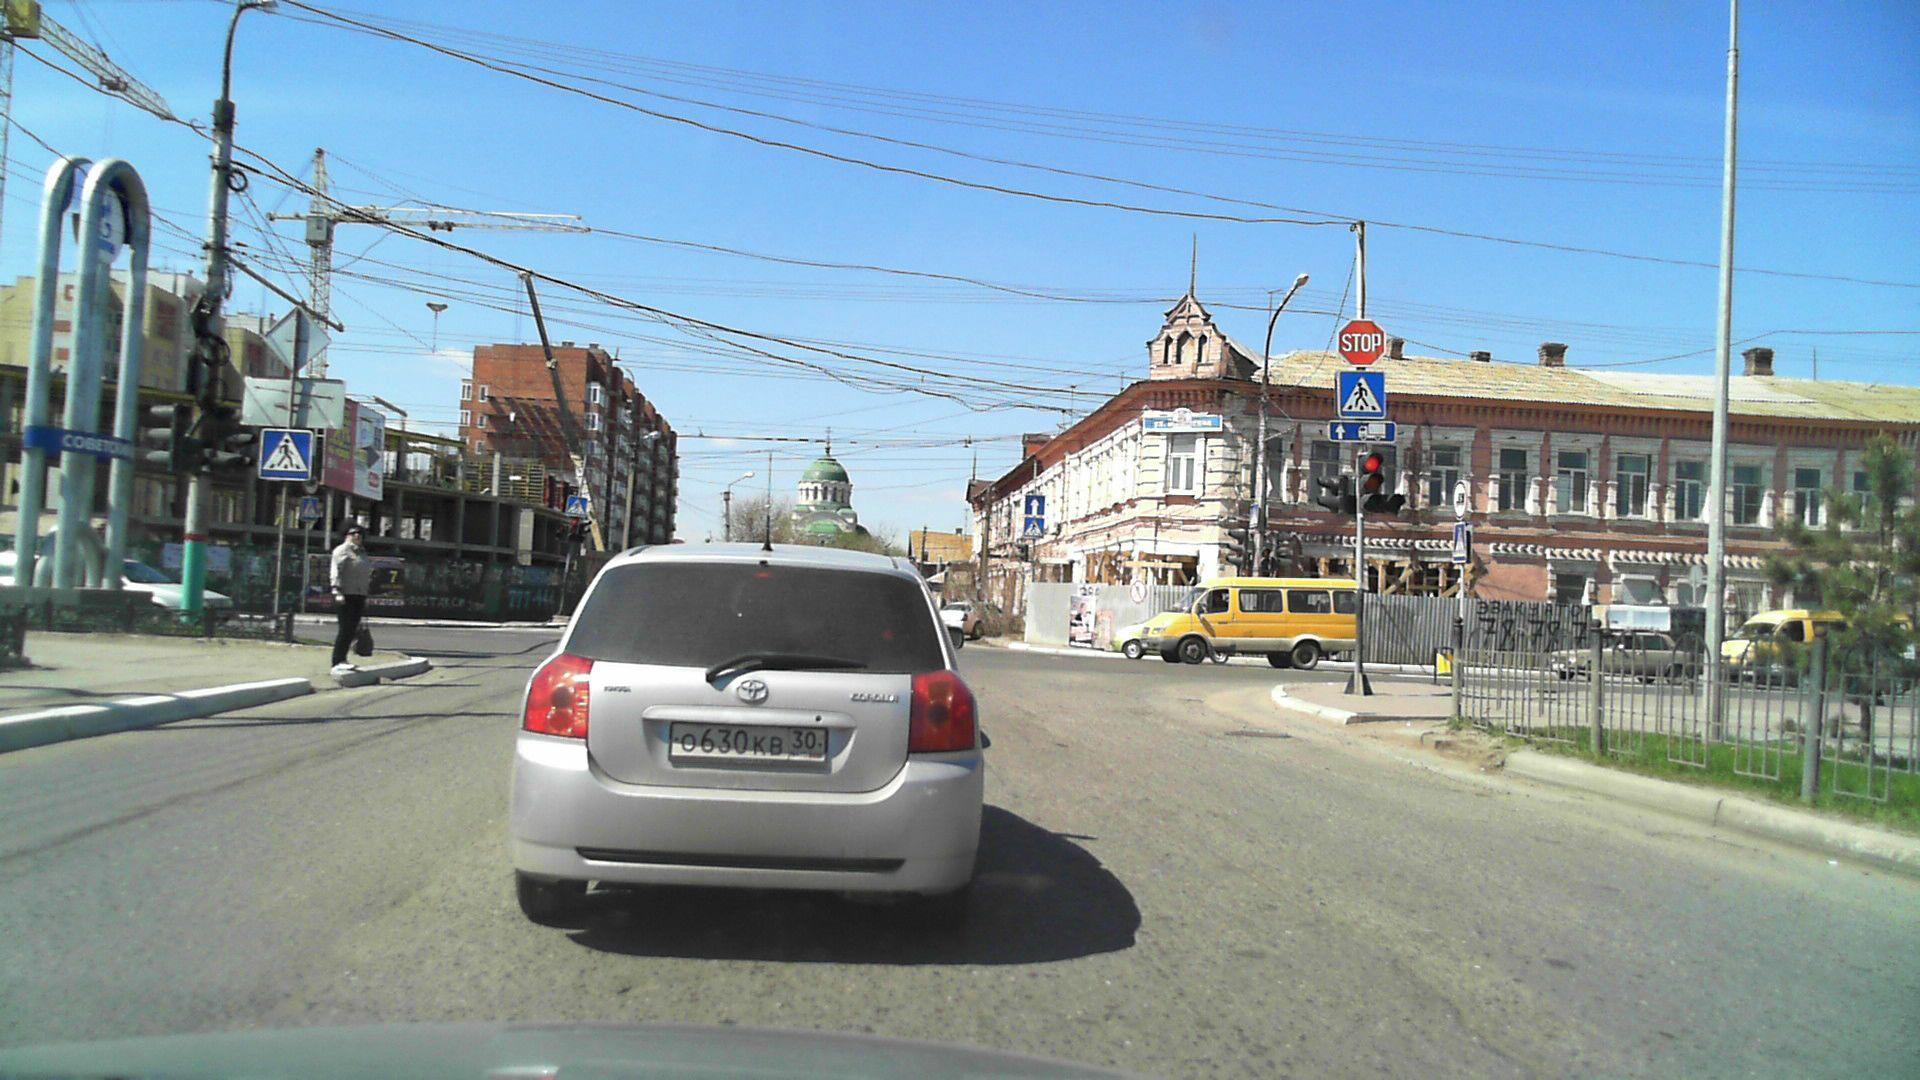2_5: (1337, 319, 1386, 367)
3_4: (1451, 480, 1469, 520)
5_19_1: (1336, 371, 1386, 415), (1448, 524, 1469, 559), (1023, 517, 1044, 537)
5_19_2: (258, 429, 311, 483), (566, 493, 587, 518), (299, 496, 319, 521)
5_5: (1023, 495, 1046, 517)
6_15_1: (1329, 419, 1396, 444)
